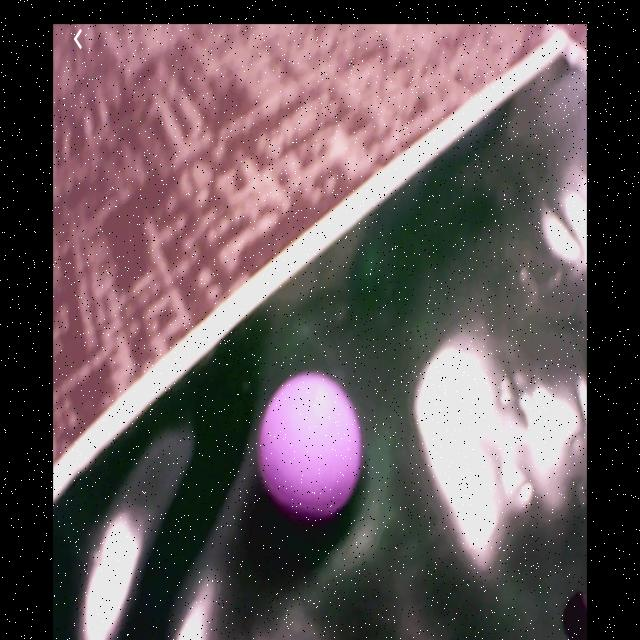ball: (260, 375, 366, 516)
